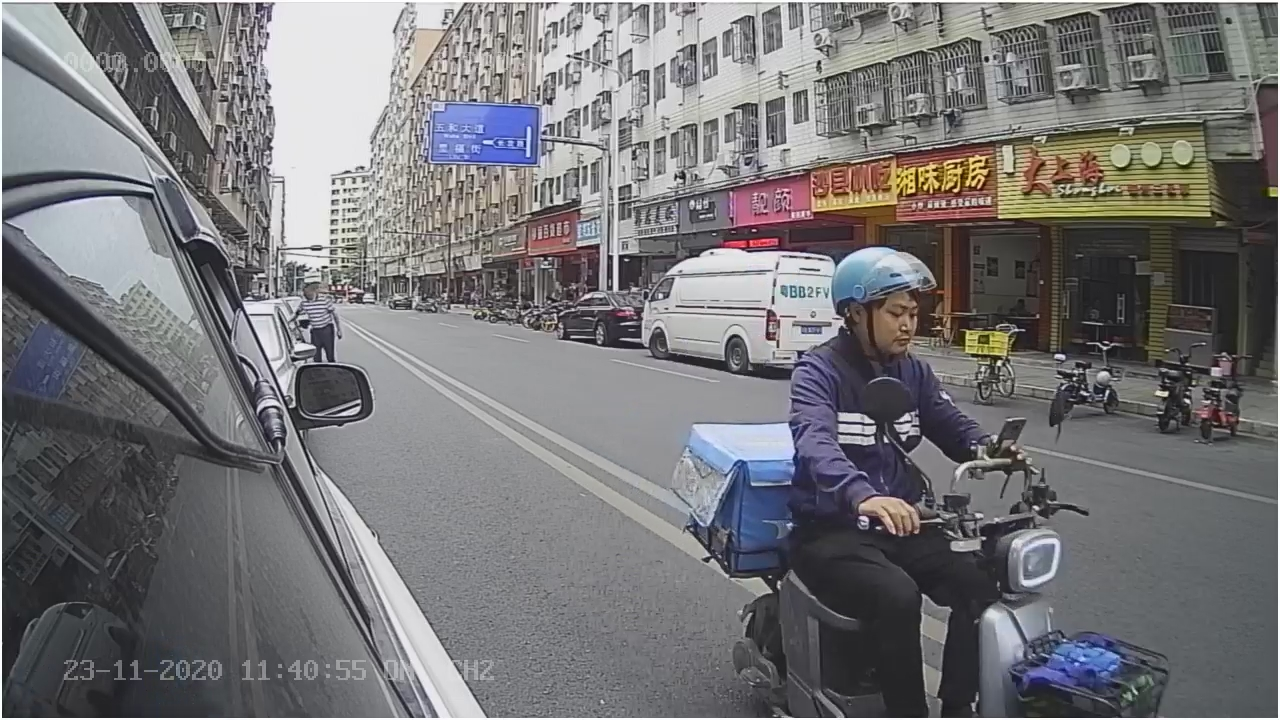person: (783, 239, 949, 521)
